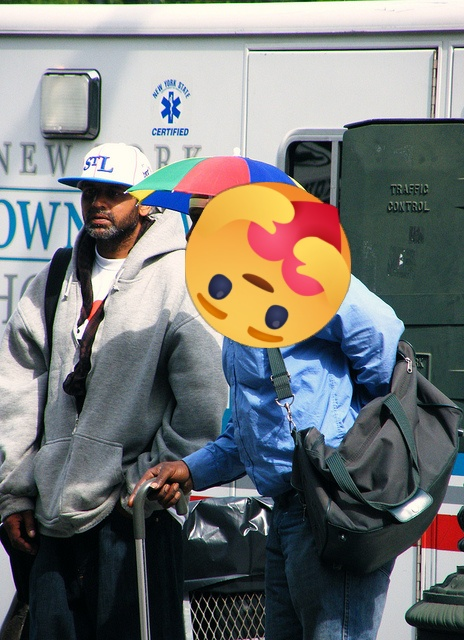care: (185, 182, 351, 348)
